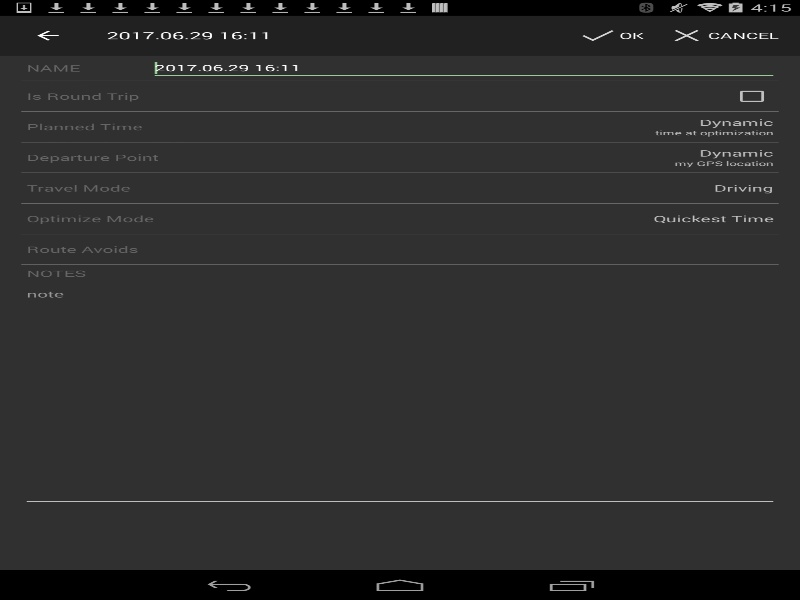Button: (10, 15, 85, 55)
Input: (21, 281, 778, 506), (149, 55, 778, 80)
